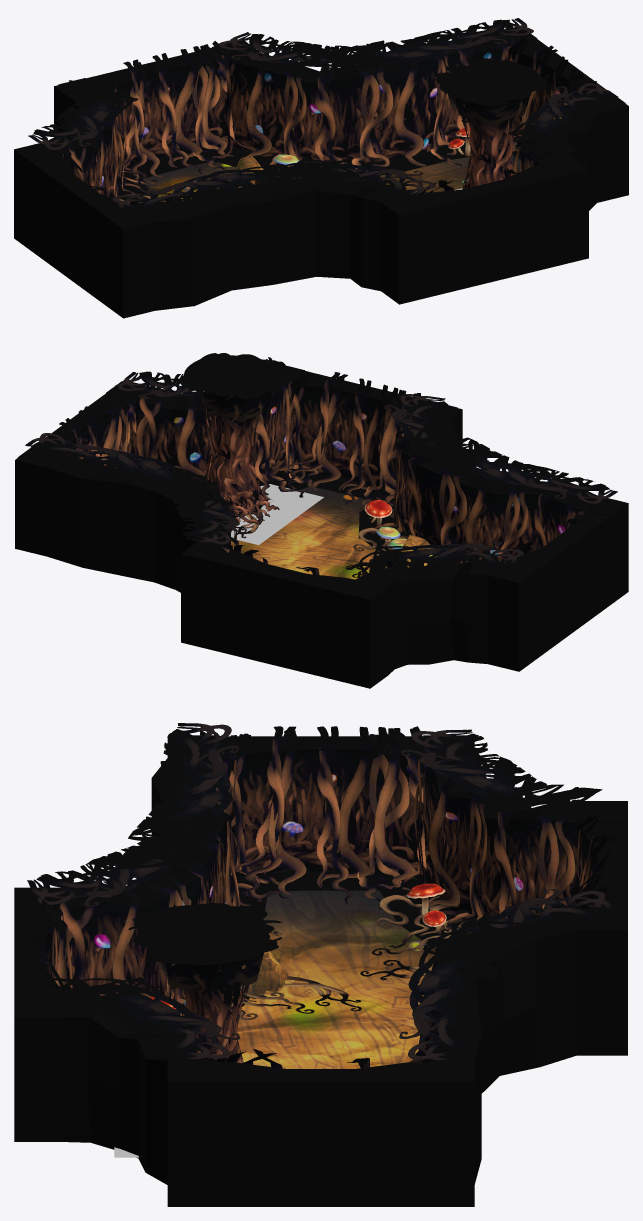
The model's file is Dungeon_021_RoadX_001.fbx.
The picture shows the model from 3 angles, top to bottom: view 1: azimuth 30°, elevation 25°; view 2: azimuth 150°, elevation 25°; view 3: azimuth 270°, elevation 25°; orthographic projection. The views are drawn at different scales.
Visible parts, largest first — view 1: Dan1, un_021_Door_002 (×4), Dungeon_021_Tsuta_003, Dungeon_021_Tsuta_002, un_021_Door_002_Object1 (×2), Dungeon_021_Object_010, Dungeon_021_Object_011, Dan002_02, Dan1_shadow, Dun_011_Door_002_shadow; view 2: Dan1, un_021_Door_002 (×4), Dungeon_021_Tsuta_003, Dungeon_021_Tsuta_002, un_021_Door_002_Object1 (×2), Dan002_02, Dungeon_021_Object_010, Dungeon_021_Object_011, Dangeonpats_001_shadow_002, Dan1_shadow, Dun_011_Door_002_shadow, Dungeon_021_Tsuta_001; view 3: Dan1, un_021_Door_002 (×4), Dungeon_021_Tsuta_003, Dan002_02, un_021_Door_002_Object1 (×3), Dungeon_021_Tsuta_002, Dungeon_021_Object_010, Dungeon_021_Tsuta_001, Dungeon_021_Object_011, Dun_011_Door_002_shadow, Dan1_shadow, Dungeon_011_Object_012.
Boxes of the visible parts, x1,y1,x2,y2 form: Dan1: [14, 27, 628, 318]; un_021_Door_002 (×4): [17, 28, 625, 304]; Dungeon_021_Tsuta_003: [28, 18, 618, 212]; Dungeon_021_Tsuta_002: [64, 25, 581, 208]; un_021_Door_002_Object1 (×2): [104, 37, 596, 191]; Dungeon_021_Object_010: [436, 58, 548, 126]; Dungeon_021_Object_011: [461, 99, 515, 189]; Dan002_02: [144, 154, 520, 200]; Dan1_shadow: [117, 141, 471, 205]; Dun_011_Door_002_shadow: [119, 148, 228, 182]; Dan1: [15, 380, 628, 688]; un_021_Door_002 (×4): [18, 365, 625, 680]; Dungeon_021_Tsuta_003: [25, 359, 617, 580]; Dungeon_021_Tsuta_002: [65, 376, 597, 577]; un_021_Door_002_Object1 (×2): [57, 370, 420, 505]; Dan002_02: [231, 487, 386, 579]; Dungeon_021_Object_010: [182, 353, 287, 428]; Dungeon_021_Object_011: [202, 391, 279, 524]; Dangeonpats_001_shadow_002: [231, 484, 323, 545]; Dan1_shadow: [270, 472, 446, 560]; Dun_011_Door_002_shadow: [289, 472, 395, 504]; Dungeon_021_Tsuta_001: [234, 505, 447, 577]; Dan1: [14, 738, 627, 1206]; un_021_Door_002 (×4): [14, 735, 627, 1206]; Dungeon_021_Tsuta_003: [27, 723, 615, 1060]; Dan002_02: [231, 890, 439, 1068]; un_021_Door_002_Object1 (×3): [24, 726, 618, 992]; Dungeon_021_Tsuta_002: [48, 731, 594, 1065]; Dungeon_021_Object_010: [128, 903, 281, 997]; Dungeon_021_Tsuta_001: [182, 895, 476, 1019]; Dungeon_021_Object_011: [168, 963, 253, 1063]; Dun_011_Door_002_shadow: [236, 871, 422, 891]; Dan1_shadow: [175, 882, 474, 1025]; Dungeon_011_Object_012: [241, 951, 288, 998].
Size of what is drawn, in the model's own units: 12.14 by 3.03 by 9.02.
